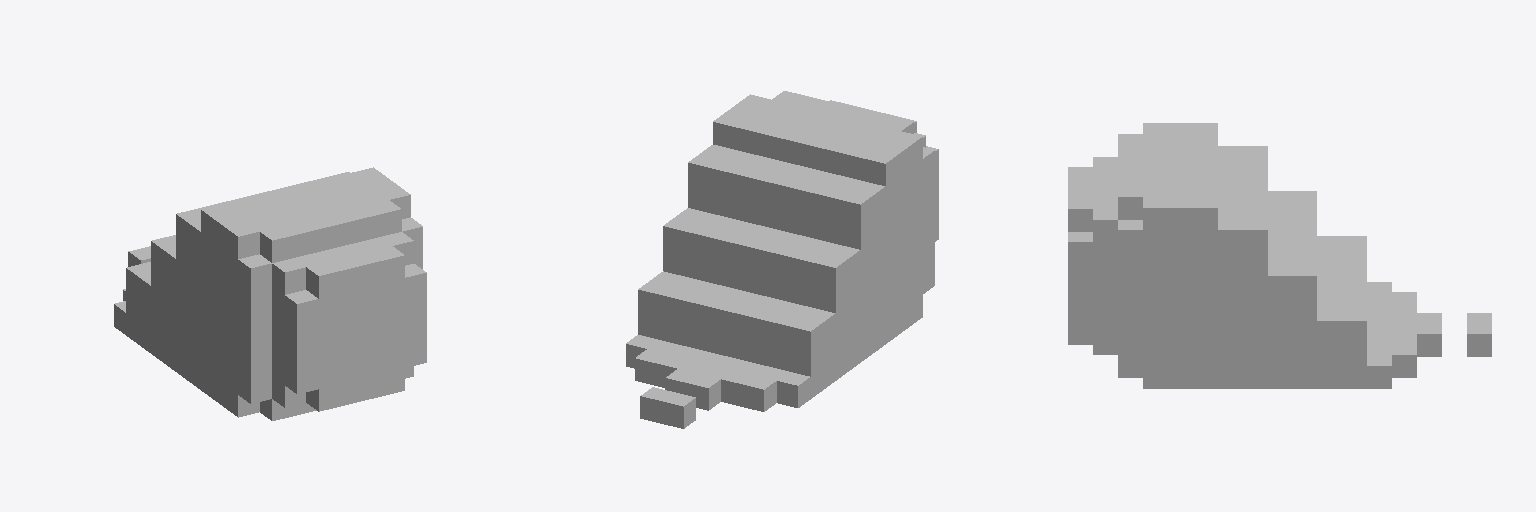
File: run green slime2.obj
3 renders of one model, left to right at view 1: azimuth 30°, elevation 25°; view 2: azimuth 150°, elevation 25°; view 3: azimuth 270°, elevation 25°, orthographic.
Visible parts, largest first — view 1: object 1; view 2: object 1; view 3: object 1.
Part boxes in pixels (bbox=[...]): object 1: bbox=[114, 167, 426, 420]; object 1: bbox=[626, 91, 938, 428]; object 1: bbox=[1068, 123, 1491, 388].
Size of the model in its own units: 0.8 by 0.8 by 1.7.